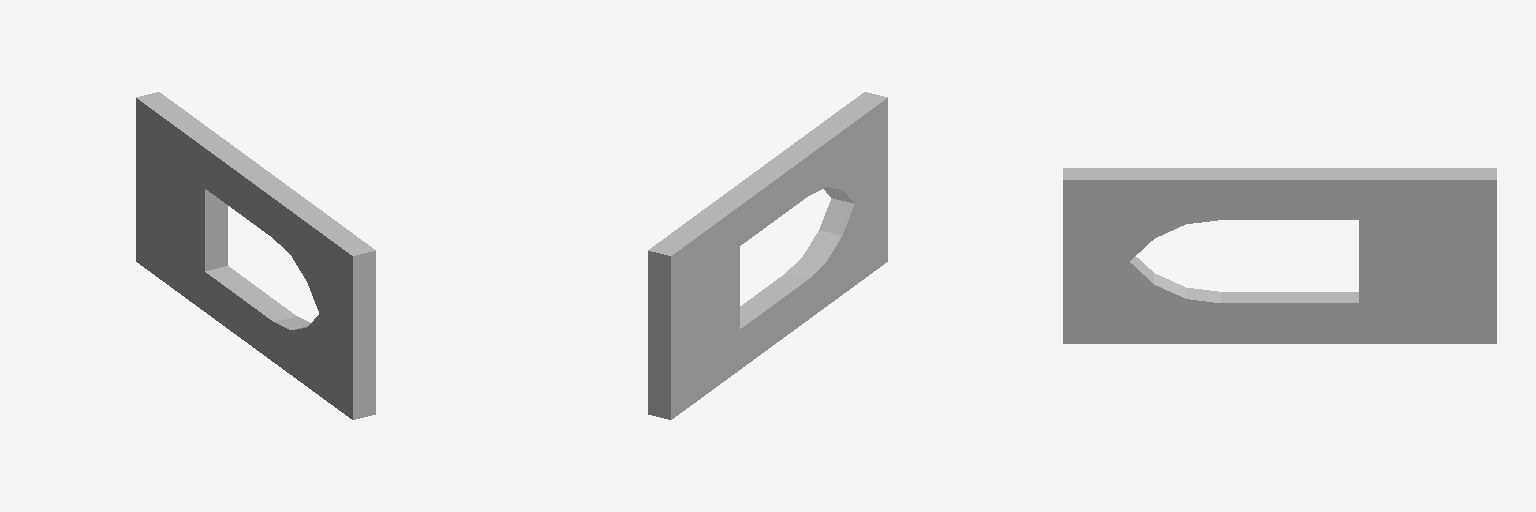
Rendered from 3dstestsobj2.obj.
The picture shows the model from 3 angles: view 1: azimuth 30°, elevation 25°; view 2: azimuth 150°, elevation 25°; view 3: azimuth 270°, elevation 25°; orthographic projection.
Parts seen in each view (by area): view 1: Box096; view 2: Box096; view 3: Box096.
Boxes of the visible parts, box(x1,y1,x2,y2) form: Box096: box(136, 92, 375, 419); Box096: box(648, 92, 887, 419); Box096: box(1063, 168, 1496, 343).
Size of the model in its own units: 0.5906 by 3.94 by 9.45.